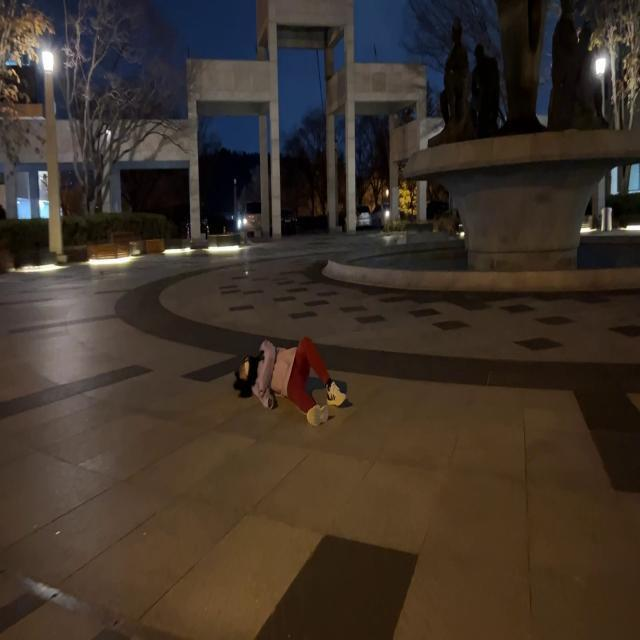Fall: (235, 338, 347, 426)
